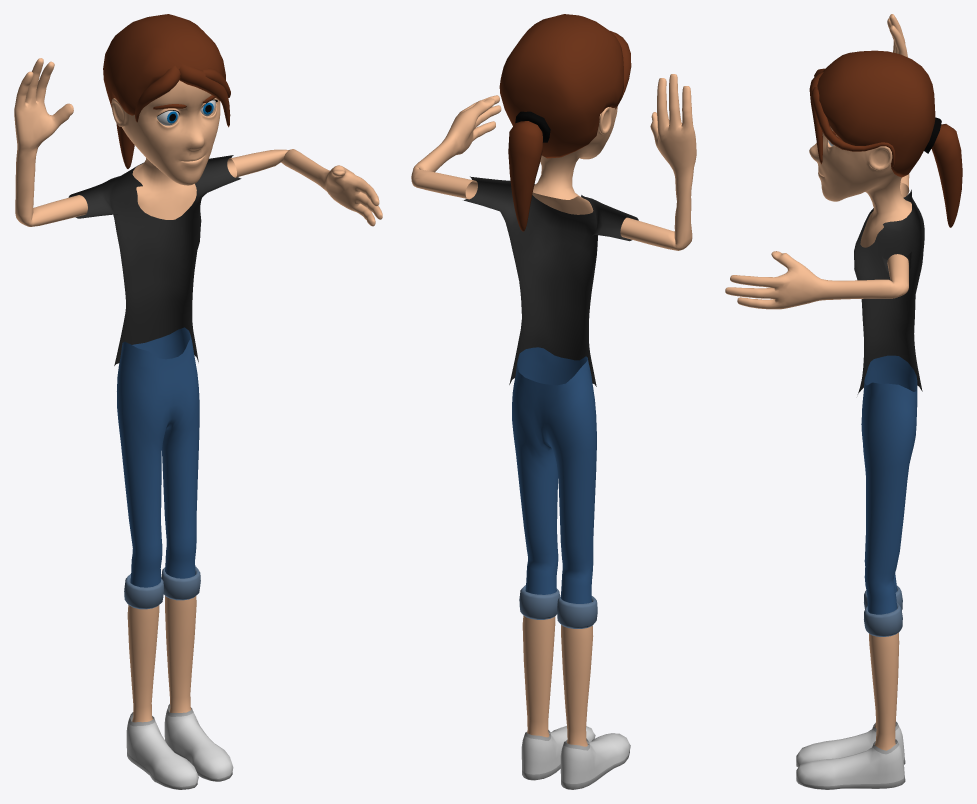
File: Elaine.obj
The picture shows the model from 3 angles, left to right: view 1: azimuth 30°, elevation 25°; view 2: azimuth 150°, elevation 25°; view 3: azimuth 270°, elevation 25°; orthographic projection. The views are drawn at different scales.
Parts seen in each view (by area): view 1: Character_Mesh_Cube.001, Pants_Cube.007, Shirt_Cube.008, Hair_Cube.006, Shoes_Cube.003, Hair2_Cube.005; view 2: Pants_Cube.007, Character_Mesh_Cube.001, Shirt_Cube.008, Hair_Cube.006, Shoes_Cube.003, Hair2_Cube.005; view 3: Character_Mesh_Cube.001, Pants_Cube.007, Hair_Cube.006, Shirt_Cube.008, Shoes_Cube.003, Hair2_Cube.005.
Boxes of the visible parts, x1=… form: Character_Mesh_Cube.001: x1=14, y1=58, x2=382, y2=722; Pants_Cube.007: x1=117, y1=327, x2=200, y2=609; Shirt_Cube.008: x1=68, y1=155, x2=241, y2=365; Hair_Cube.006: x1=103, y1=14, x2=225, y2=115; Shoes_Cube.003: x1=126, y1=704, x2=233, y2=789; Hair2_Cube.005: x1=116, y1=64, x2=230, y2=168; Pants_Cube.007: x1=512, y1=347, x2=597, y2=628; Character_Mesh_Cube.001: x1=411, y1=74, x2=696, y2=746; Shirt_Cube.008: x1=463, y1=176, x2=638, y2=386; Hair_Cube.006: x1=499, y1=14, x2=623, y2=158; Shoes_Cube.003: x1=521, y1=726, x2=630, y2=789; Hair2_Cube.005: x1=508, y1=31, x2=631, y2=231; Character_Mesh_Cube.001: x1=725, y1=14, x2=911, y2=750; Pants_Cube.007: x1=861, y1=355, x2=917, y2=636; Hair_Cube.006: x1=817, y1=50, x2=935, y2=177; Shirt_Cube.008: x1=854, y1=189, x2=924, y2=394; Shoes_Cube.003: x1=796, y1=721, x2=905, y2=789; Hair2_Cube.005: x1=809, y1=68, x2=962, y2=227.
Bounding box in the file's own units: 2.81 × 6.83 × 2.05.
